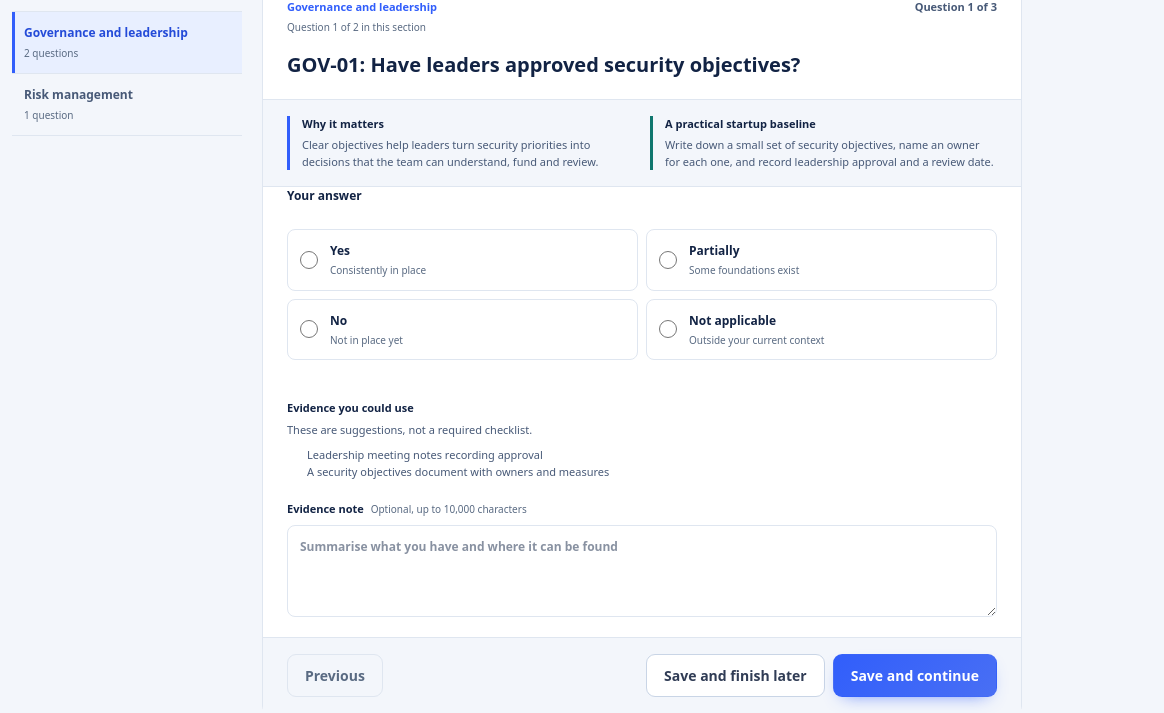
AssessmentResponseList guided flow › prevents an evidence-only save when no answer is selected
The image size is (1164, 713).
(page scrolled)
Type "Some notes" into the text box labelled "Evidence note" at (642, 571), box [287,525,997,617]
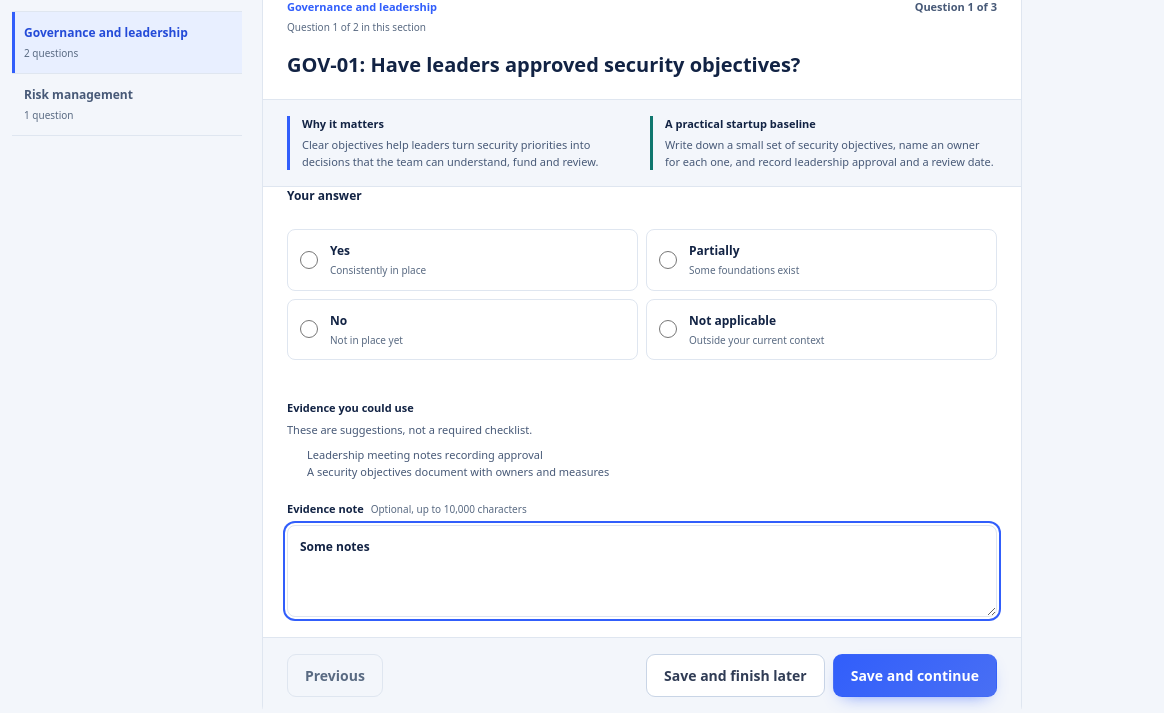
Press Tab
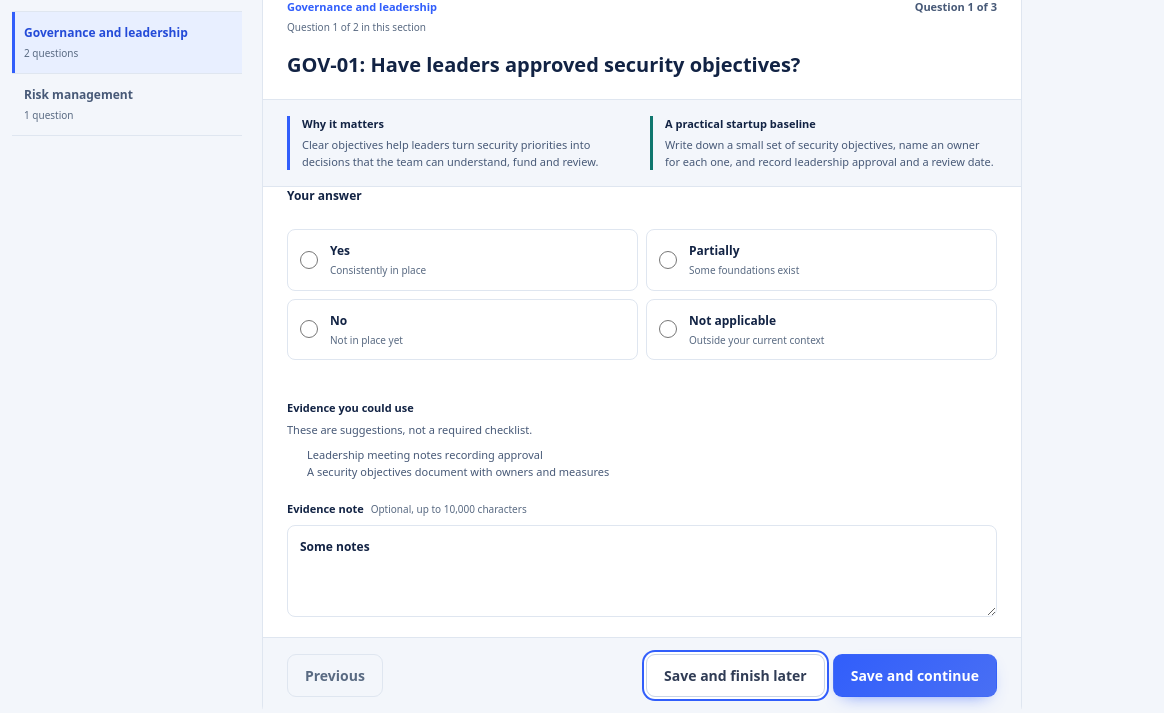
Click the button "Save and continue" at (915, 676), box [833,654,997,697]
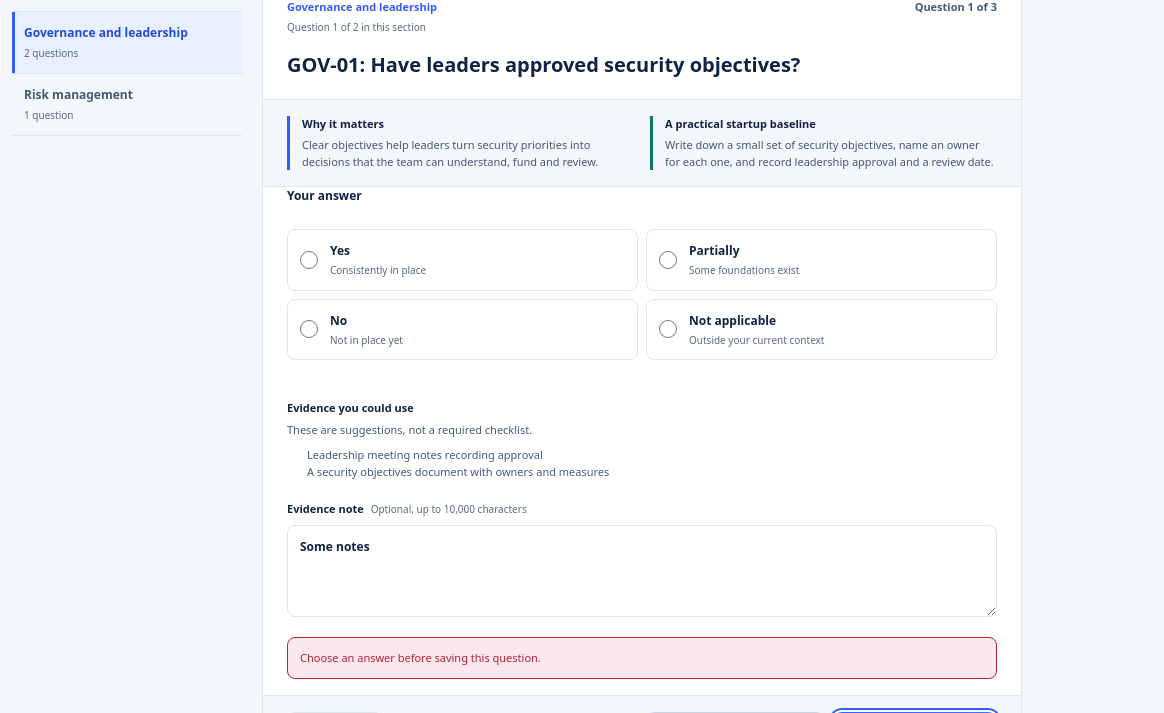
Check: the heading "GOV-01: Have leaders approved security objectives?" is shown, box [287,50,800,78]
Check: the message shows "Choose an answer", box [300,650,541,665]
